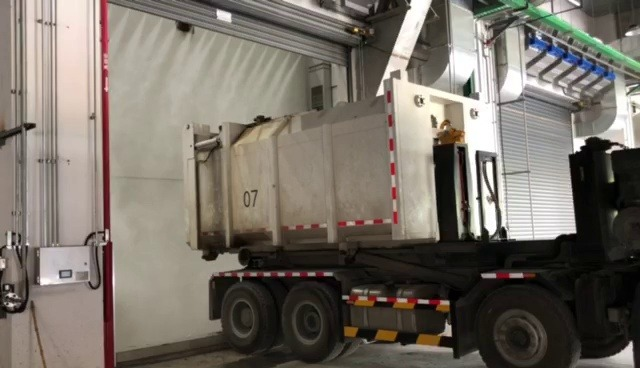truck: (170, 68, 640, 368)
